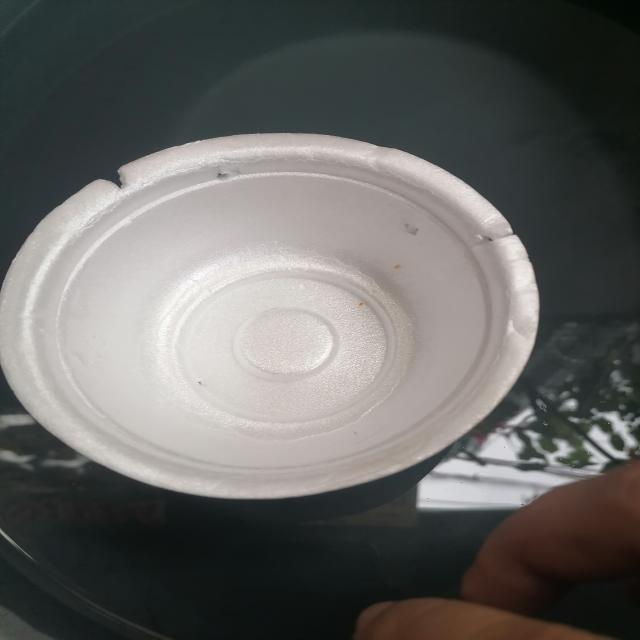Styrofoam Container: (0, 134, 538, 499)
